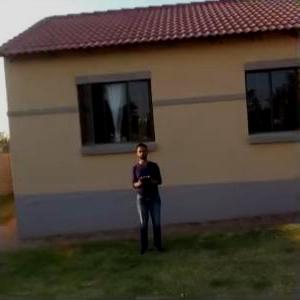follow: (130, 138, 170, 259)
